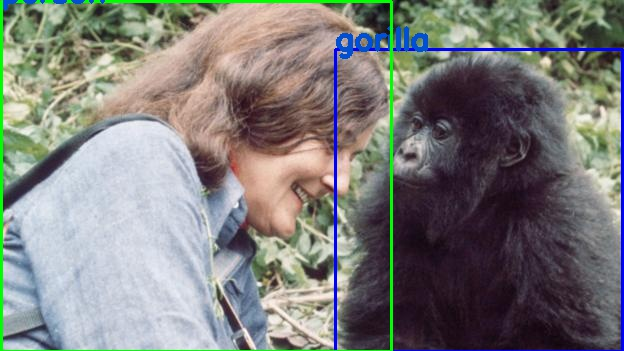gorilla: (335, 49, 622, 351)
person: (1, 1, 391, 351)
